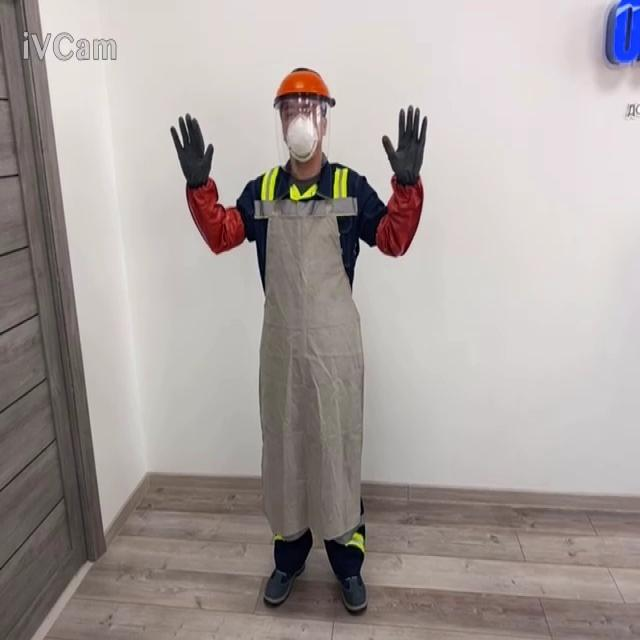Gloves: (381, 104, 427, 185), (169, 112, 213, 188), (604, 0, 639, 65)
Mask: (284, 109, 319, 163)
Protective apron: (253, 172, 365, 545)
Safety Shoes: (262, 562, 305, 606), (335, 572, 367, 612)
Sleeve: (185, 176, 246, 253), (374, 172, 423, 257)
